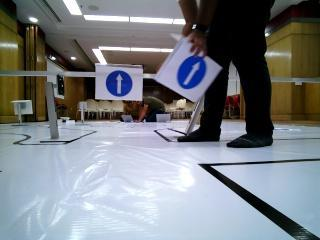straight: (179, 40, 215, 97), (97, 62, 143, 99)
